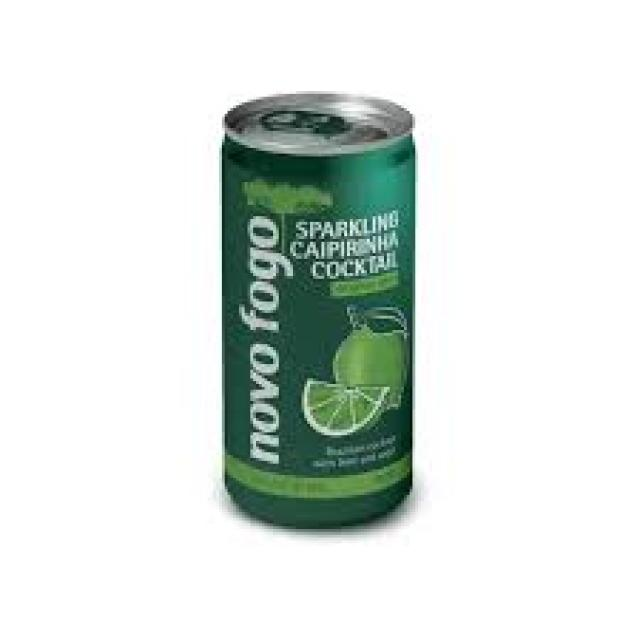Cans: (210, 77, 427, 535)
